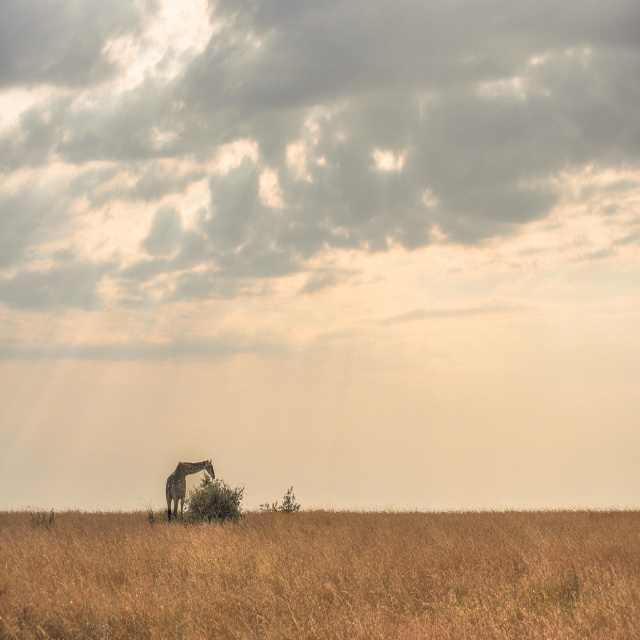Giraffe: (166, 457, 214, 523)
